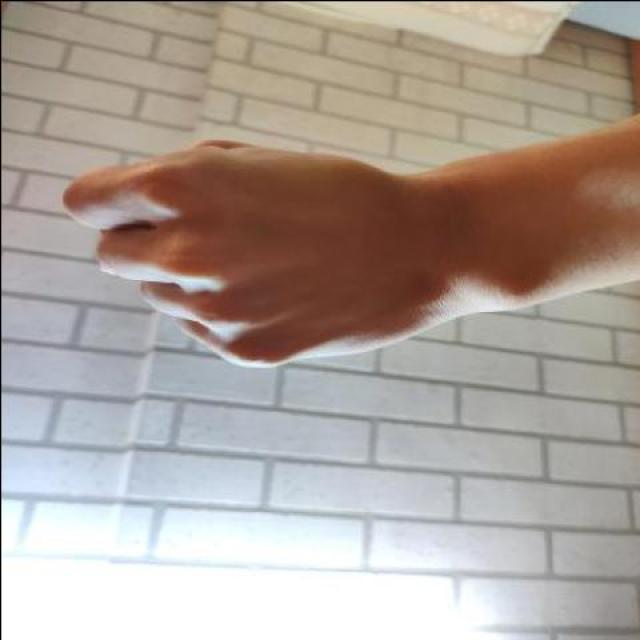fist: (58, 100, 462, 368)
